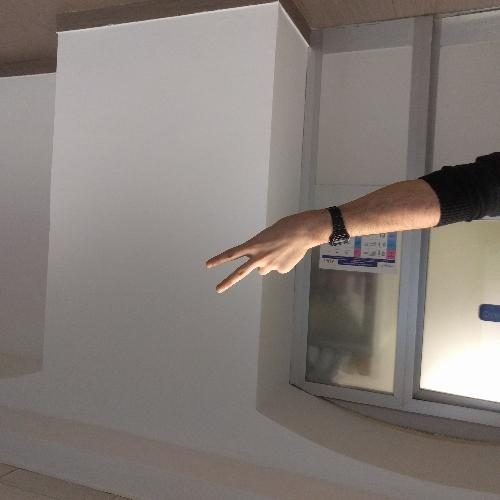scissors: (201, 207, 315, 295)
